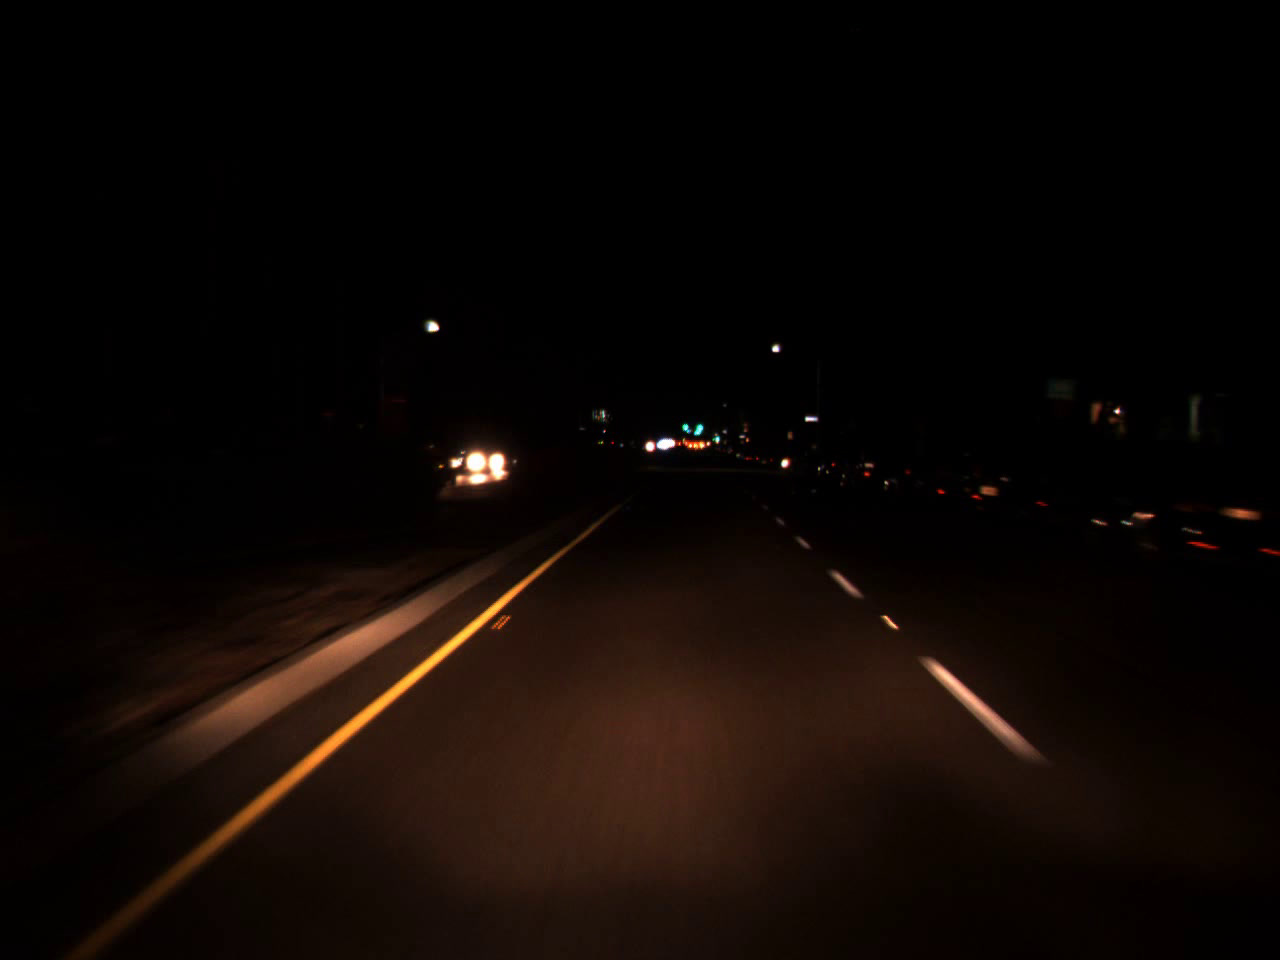go: (692, 415, 703, 433), (679, 415, 688, 433), (712, 431, 719, 443)
